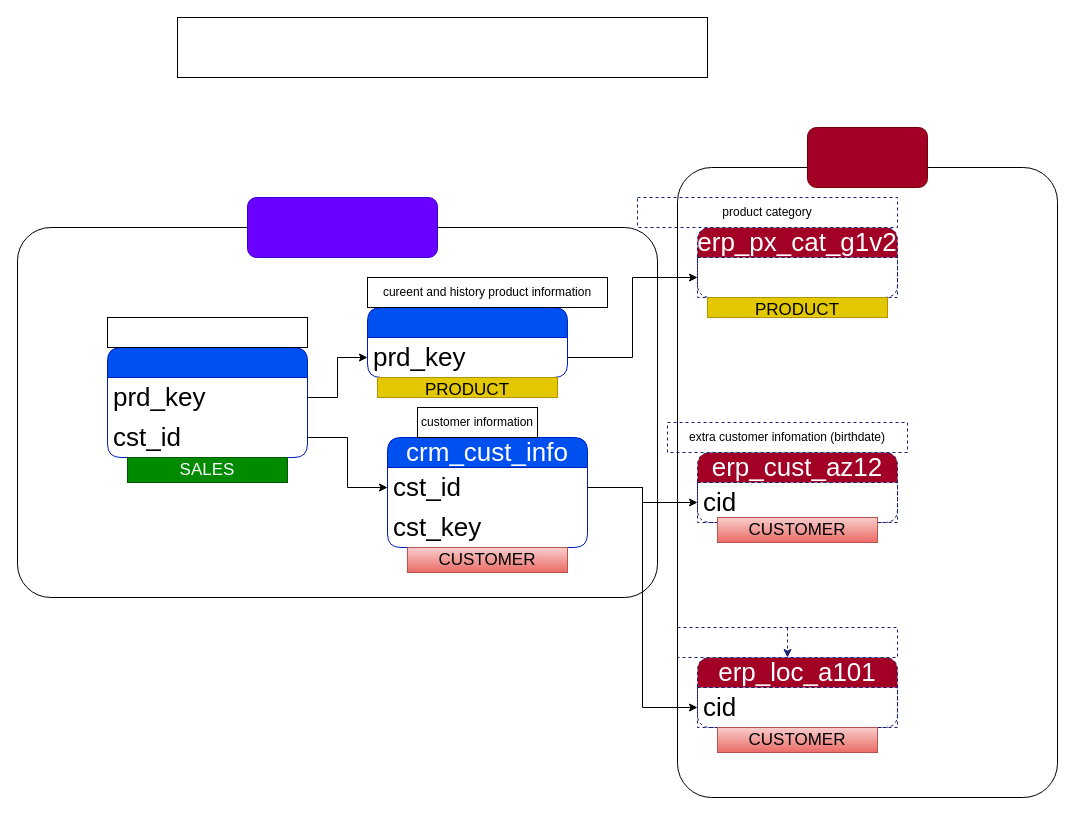
The diagram is 1075 pixels wide and 815 high, and some of its shapes have lost their labels. Each missing label, with the box of its shape:
CRM: (246, 196, 438, 258)
crm_prd_info: (366, 306, 568, 378)
crm_sales_details: (106, 346, 308, 458)
ERP: (806, 126, 928, 188)
id: (696, 256, 898, 298)
INTEGRATED MODEL (how tables are related): (176, 16, 708, 78)
location of customers(country): (676, 626, 898, 658)
transactional records about sales and orders: (106, 316, 308, 348)
